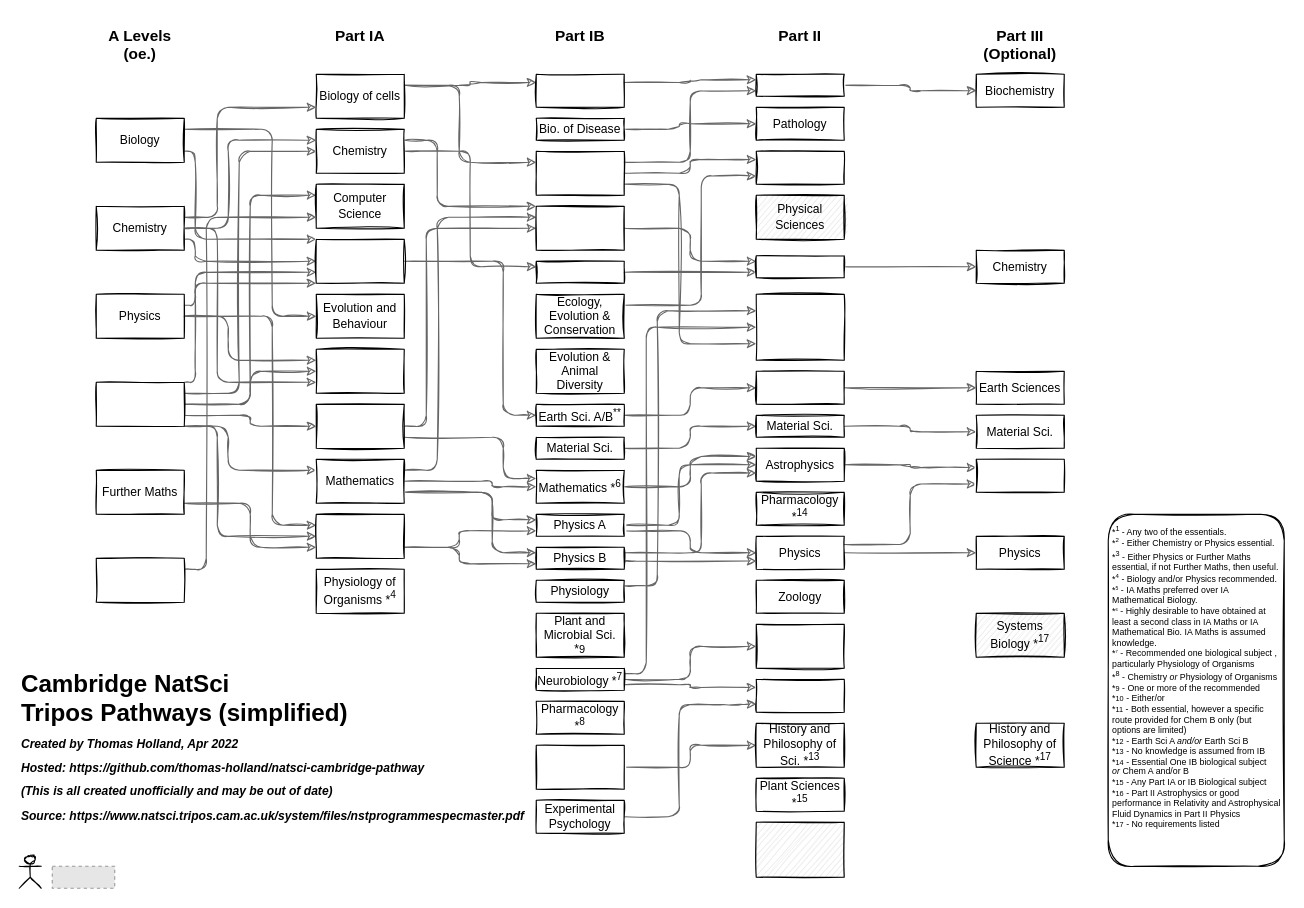
The diagram is 1304 pixels wide and 908 high, and some of its shapes have lost their labels. Grey dashed boxes stand in for pictures. The shapes that lost their labels are listed below. From the top down, each one's centre as x and y in pixels, then its label:
At pixel 579 90: "Biochem. & Molecular Bio".
At pixel 799 84: "Biochemistry* 10".
At pixel 579 172: "Cell and Development Bio.".
At pixel 799 167: "Genetics".
At pixel 579 227: "Chemistry A * 5".
At pixel 359 260: "Earth Sciences * 1".
At pixel 579 271: "Chemistry B".
At pixel 799 266: "Chemistry* 11".
At pixel 799 326: "Physiology, Development and Neuroscience".
At pixel 359 370: "Material Sciences * 2".
At pixel 799 387: "Earth Sciences* 12".
At pixel 139 403: "Maths".
At pixel 359 425: "Mathematical Biology".
At pixel 1019 475: "Astrophysics* 16".
At pixel 359 535: "Physics * 3".
At pixel 139 579: "Other course or pre-reading".
At pixel 799 645: "Psychology, Neuroscience and Behaviour".
At pixel 799 695: "Psychology".
At pixel 579 766: "History and Philosophy of Sci.".
At pixel 799 849: "Biological and Biomedical Sciences".
